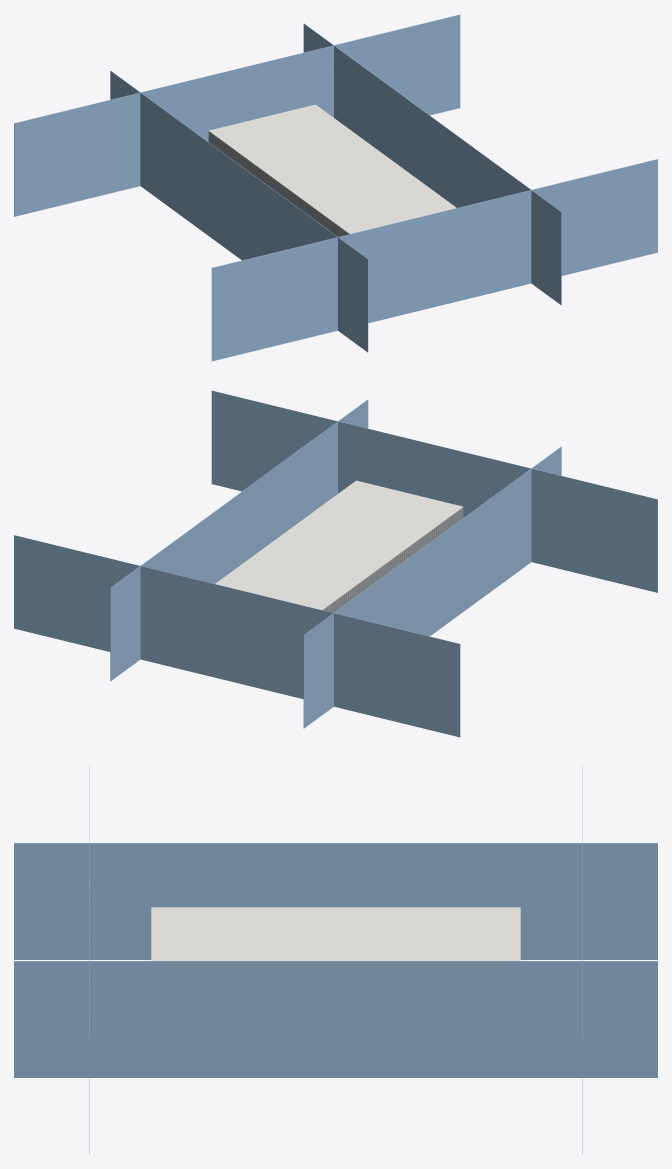
Rendered from interior.glb.
3 renders of one model, top to bottom at view 1: azimuth 30°, elevation 25°; view 2: azimuth 150°, elevation 25°; view 3: azimuth 270°, elevation 25°, orthographic. The views are drawn at different scales.
Parts seen in each view (by area): view 1: Sky_Front, Sky_Back, Sky_West, Sky_East, Ceiling, Walls_W_00; view 2: Sky_Back, Sky_Front, Sky_West, Sky_East, Ceiling, Walls_W_00; view 3: Sky_East, Sky_West, Ceiling.
Boxes of the visible parts, x1=… form: Sky_Front: x1=211, y1=159, x2=657, y2=361; Sky_Back: x1=14, y1=14, x2=460, y2=216; Sky_West: x1=110, y1=70, x2=368, y2=352; Sky_East: x1=303, y1=23, x2=561, y2=305; Ceiling: x1=208, y1=104, x2=456, y2=234; Walls_W_00: x1=209, y1=132, x2=348, y2=236; Sky_Back: x1=14, y1=535, x2=460, y2=737; Sky_Front: x1=211, y1=390, x2=657, y2=592; Sky_West: x1=303, y1=446, x2=561, y2=728; Sky_East: x1=110, y1=399, x2=368, y2=681; Ceiling: x1=215, y1=480, x2=463, y2=610; Walls_W_00: x1=323, y1=508, x2=462, y2=612; Sky_East: x1=14, y1=961, x2=657, y2=1077; Sky_West: x1=14, y1=843, x2=657, y2=959; Ceiling: x1=151, y1=907, x2=520, y2=960.
Size of the model in its own units: 60 by 12 by 60.
Materials: 18 (15 with a texture image).
